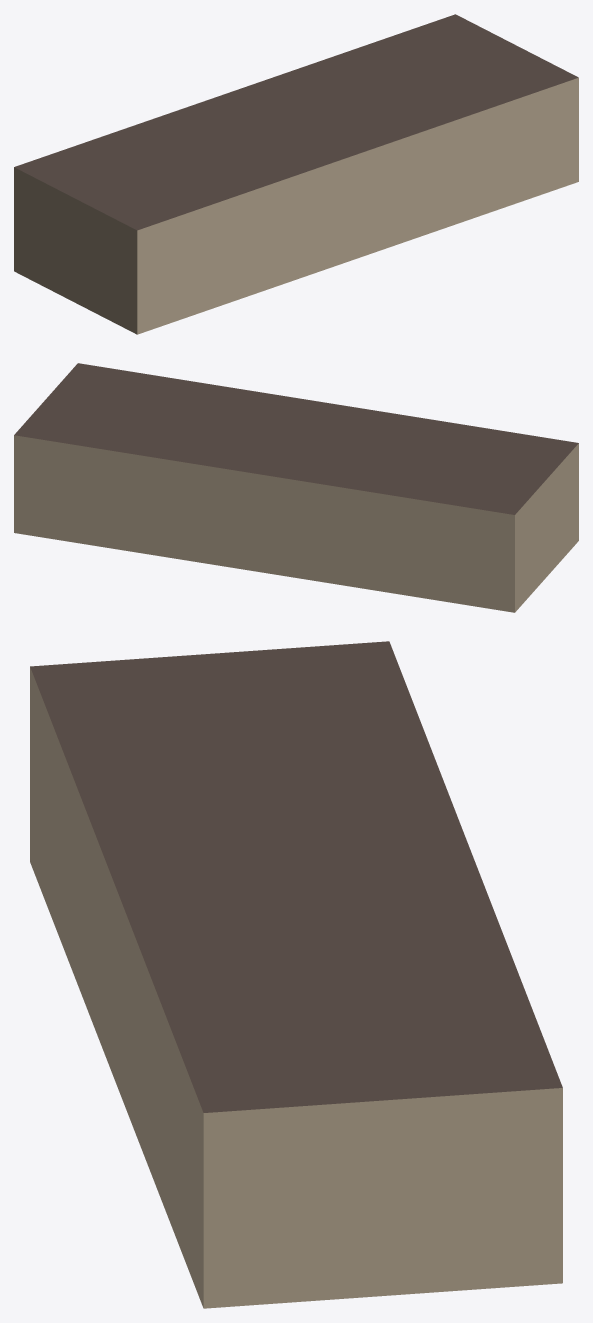
The picture shows the model from 3 angles, top to bottom: view 1: azimuth 30°, elevation 25°; view 2: azimuth 150°, elevation 25°; view 3: azimuth 270°, elevation 25°; orthographic projection. The views are drawn at different scales.
Visible parts, largest first — view 1: HP-w859078974; view 2: HP-w859078974; view 3: HP-w859078974.
Boxes of the visible parts, x1=… form: HP-w859078974: x1=14, y1=14, x2=578, y2=334; HP-w859078974: x1=14, y1=363, x2=578, y2=612; HP-w859078974: x1=30, y1=641, x2=562, y2=1308.
Bounding box in the file's own units: 46.58 × 9 × 22.23.
